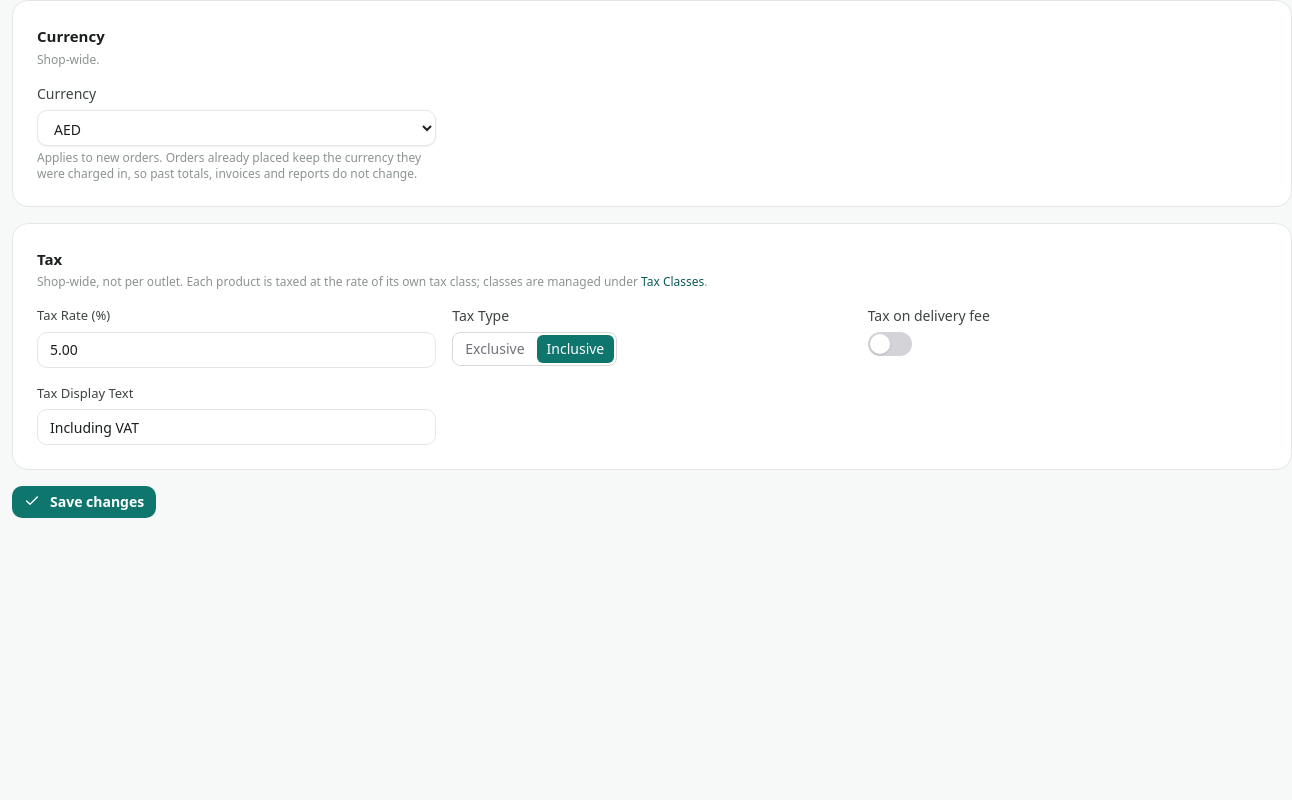
Test: Stripe currency warning › shows as soon as a blocked currency is picked, and not for AED
The width and height of the screenshot is (1292, 800).
Expected: the text "Card payments through Stripe are unavailable" is not shown
Select "OMR" in the dropdown at coordinates (237, 128), box [37,110,436,146]
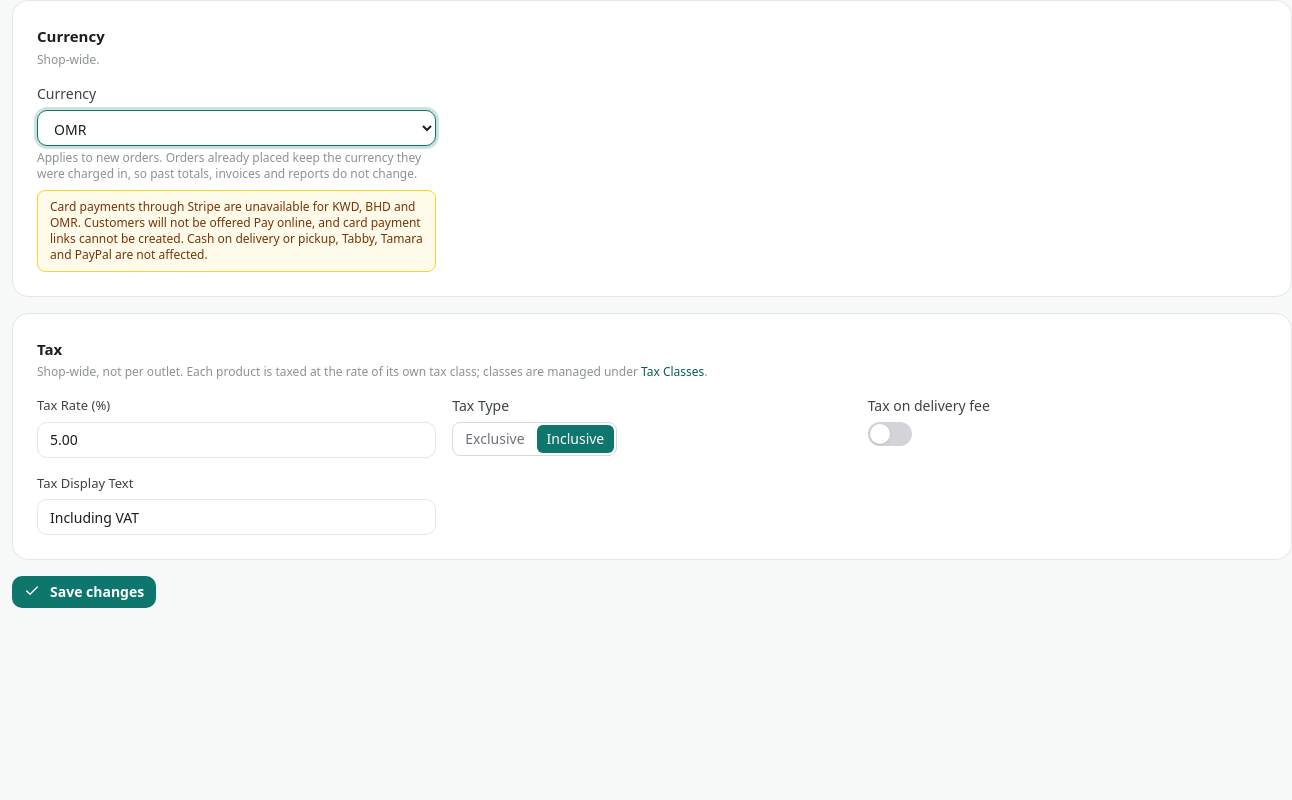
Now the text "Card payments through Stripe are unavailable" is shown, box [50,198,423,262]
